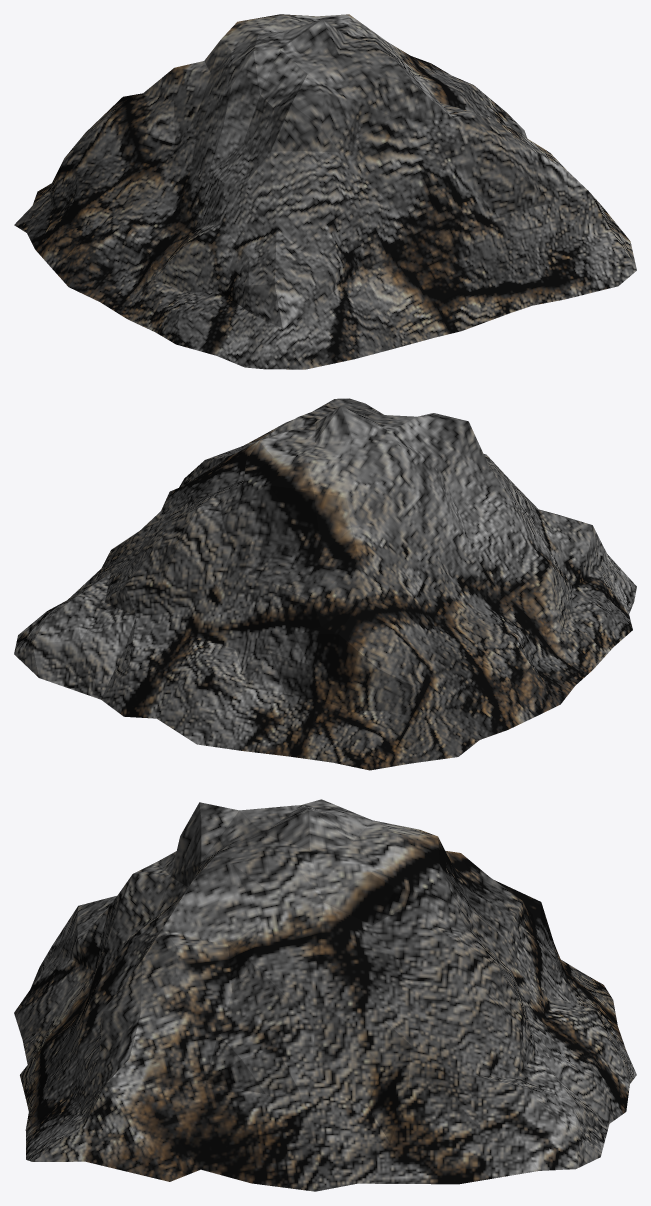
File: PileOfRocks.gltf
3 renders of one model, top to bottom at view 1: azimuth 30°, elevation 25°; view 2: azimuth 150°, elevation 25°; view 3: azimuth 270°, elevation 25°, orthographic. The views are drawn at different scales.
Visible parts, largest first — view 1: Cube; view 2: Cube; view 3: Cube.
Boxes of the visible parts, box(x1,y1,x2,y2) form: Cube: box(14, 14, 636, 369); Cube: box(14, 398, 636, 770); Cube: box(14, 799, 636, 1191).
Bounding box in the file's own units: 7.18 × 3.45 × 7.3.
